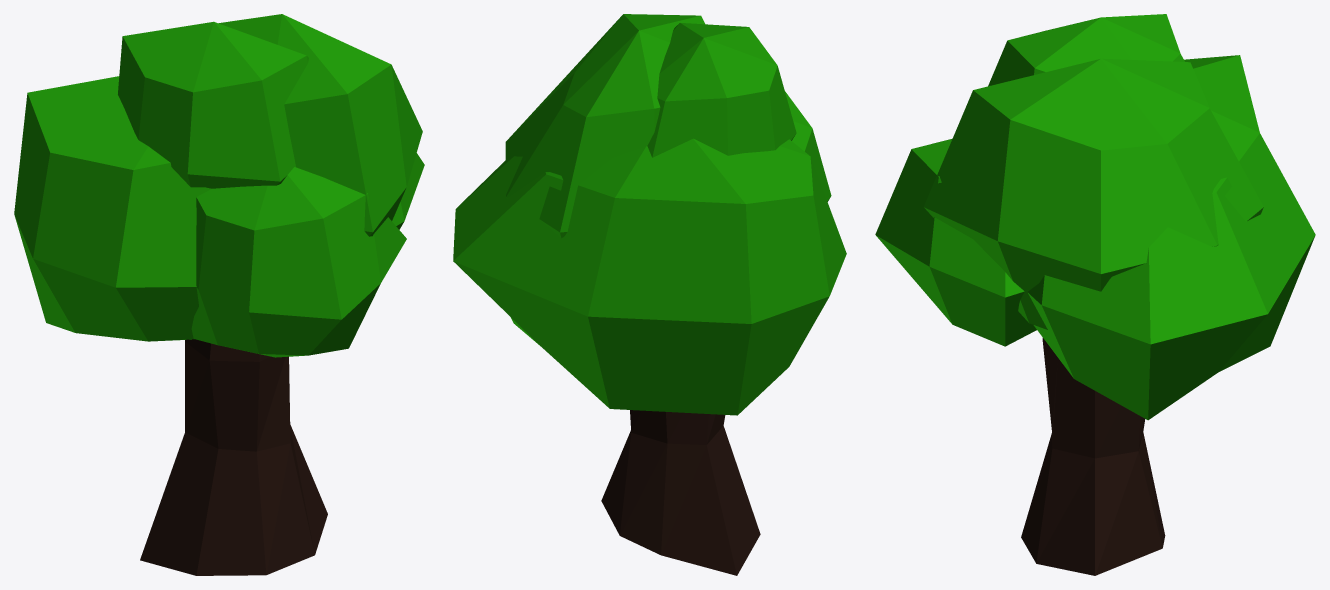
Rendered from tree01.FBX.
3 renders of one model, left to right at view 1: azimuth 30°, elevation 25°; view 2: azimuth 150°, elevation 25°; view 3: azimuth 270°, elevation 25°, orthographic. The views are drawn at different scales.
Parts seen in each view (by area): view 1: Sphere002, Sphere001, Cone001, Sphere004, Sphere003; view 2: Sphere002, Cone001, Sphere003, Sphere004, Sphere001; view 3: Sphere003, Sphere002, Cone001, Sphere001, Sphere004.
Part boxes in pixels (<box>): Sphere002: <box>14,76,424,341</box>; Sphere001: <box>191,167,406,357</box>; Cone001: <box>140,339,327,575</box>; Sphere004: <box>118,21,308,188</box>; Sphere003: <box>218,14,422,236</box>; Sphere002: <box>453,138,846,415</box>; Cone001: <box>601,410,760,575</box>; Sphere003: <box>505,14,704,238</box>; Sphere004: <box>647,23,796,157</box>; Sphere001: <box>785,91,831,201</box>; Sphere003: <box>924,58,1263,329</box>; Sphere002: <box>1027,55,1315,420</box>; Cone001: <box>1021,338,1165,575</box>; Sphere001: <box>875,138,1036,346</box>; Sphere004: <box>988,14,1184,86</box>.
Bounding box in the file's own units: 51.23 × 67.19 × 50.86.
